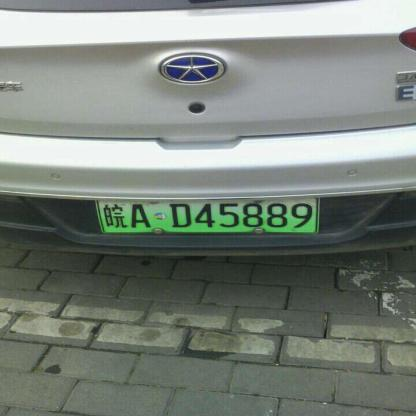lp: (97, 198, 319, 233)
